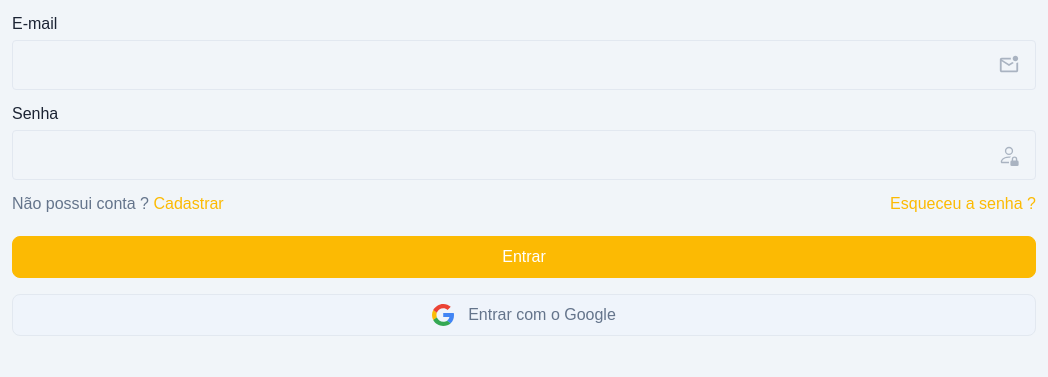
it: LoginForm › Behavior › should display matching error when email is invalid
Type "test" into the field named "email" at (524, 65), box [12,40,1036,90]
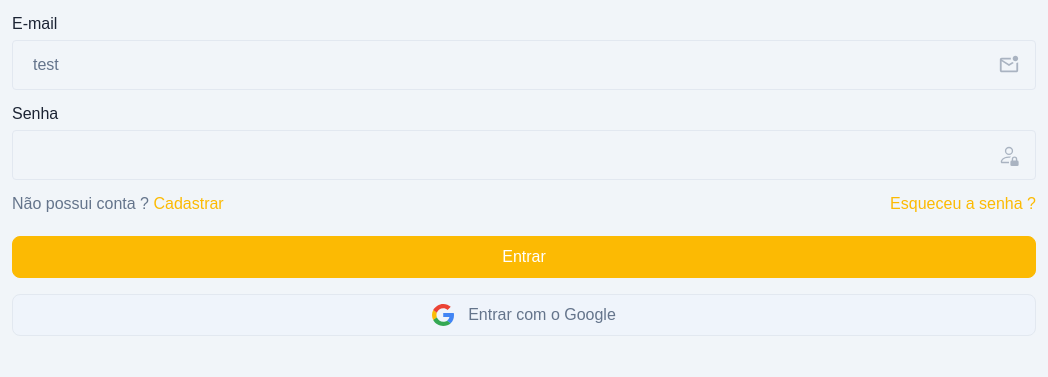
Type "password" into the password field named "password" at (524, 155), box [12,130,1036,180]
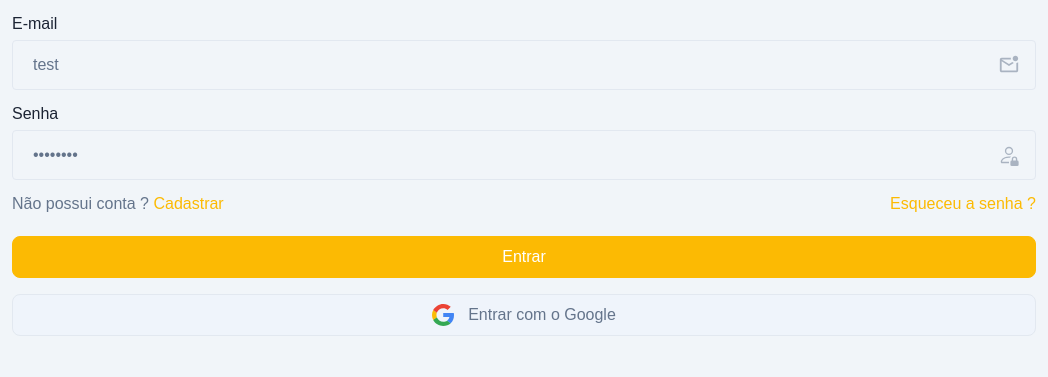
Submit the form from the button with test id "login-button", box [12,236,1036,278]
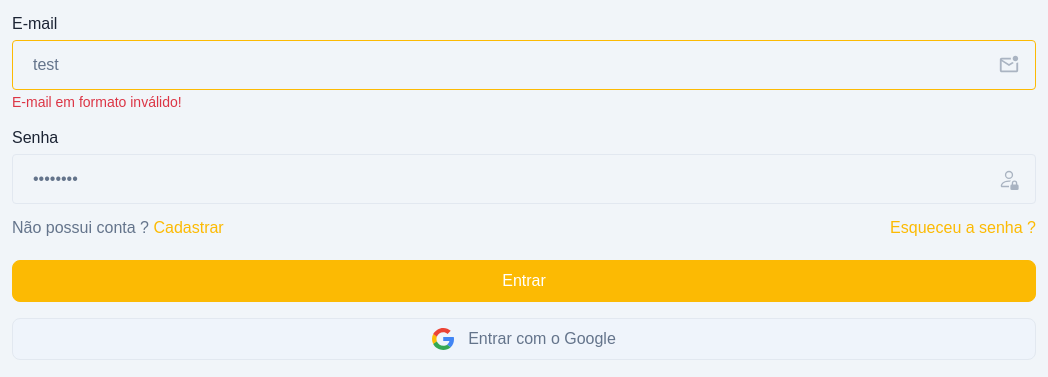
Result: the number of messages is 1 at [12,94,182,110]
Result: the message reads "E-mail em formato inválido!" at [12,94,182,110]
